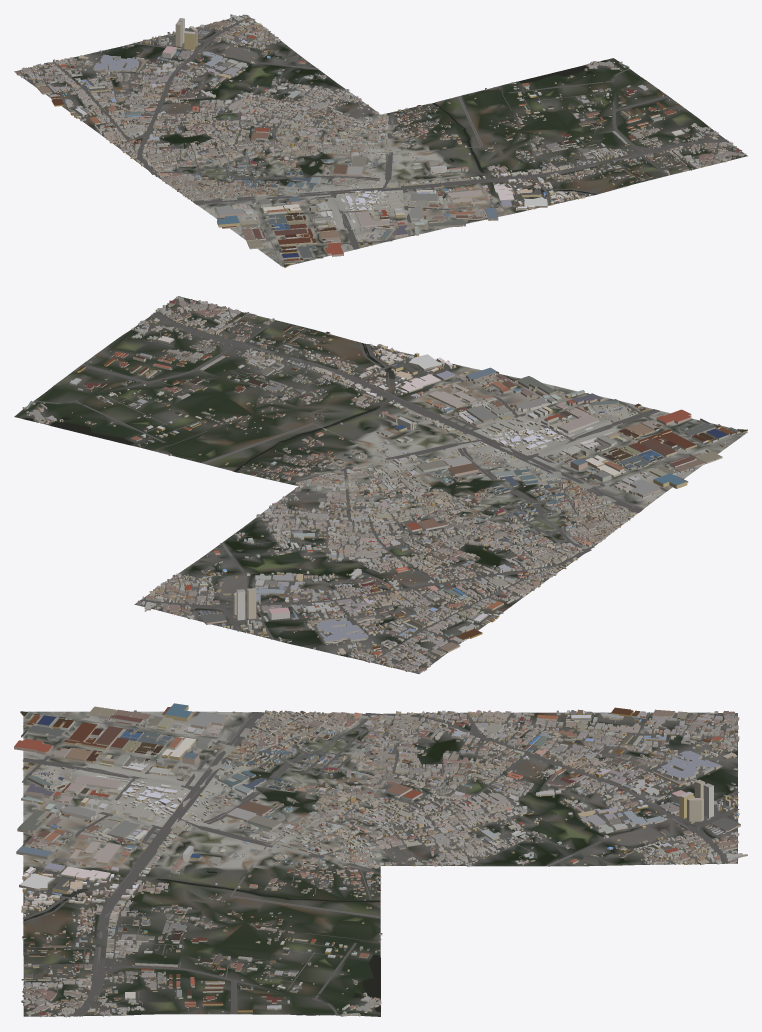
3 views of the same model, one above another, from view 1: azimuth 30°, elevation 25°; view 2: azimuth 150°, elevation 25°; view 3: azimuth 270°, elevation 25° (orthographic). The views are drawn at different scales.
Visible parts, largest first — view 1: ground, buildings, roads, water; view 2: ground, buildings, roads, water; view 3: ground, buildings, roads, water.
Boxes of the visible parts, bbox=[...] form: ground: bbox=[14, 16, 747, 266]; buildings: bbox=[15, 14, 746, 267]; roads: bbox=[19, 17, 729, 265]; water: bbox=[432, 60, 644, 194]; ground: bbox=[14, 296, 747, 673]; buildings: bbox=[22, 296, 747, 672]; roads: bbox=[34, 303, 744, 672]; water: bbox=[24, 343, 395, 471]; ground: bbox=[23, 711, 737, 1016]; buildings: bbox=[14, 703, 747, 1017]; roads: bbox=[22, 711, 739, 1016]; water: bbox=[23, 871, 380, 1015].
Bounding box in the file's own units: 2848 × 147 × 2877.
